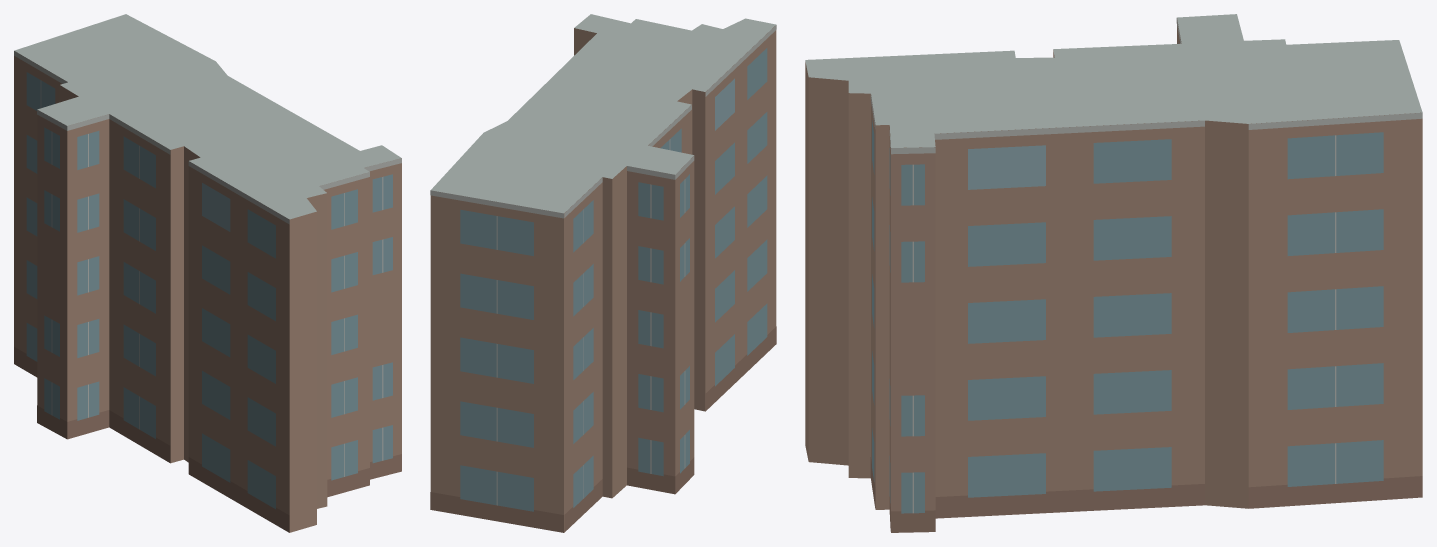
Rendered from survey-upis-32578611.glb.
3 views of the same model, side by side, from view 1: azimuth 30°, elevation 25°; view 2: azimuth 150°, elevation 25°; view 3: azimuth 270°, elevation 25° (orthographic). The views are drawn at different scales.
Visible parts, largest first — view 1: survey-upis-32578611.tmp; view 2: survey-upis-32578611.tmp; view 3: survey-upis-32578611.tmp.
Part boxes in pixels (left/top/right/bottom): survey-upis-32578611.tmp: left=14, top=14, right=401, bottom=532; survey-upis-32578611.tmp: left=430, top=14, right=776, bottom=532; survey-upis-32578611.tmp: left=805, top=14, right=1422, bottom=532.
Bounding box in the file's own units: 11.44 × 15.3 × 22.26.
